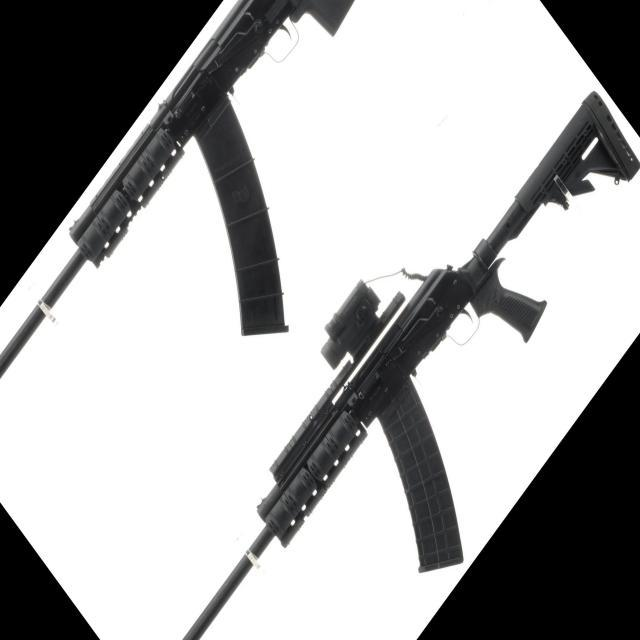weapon: (181, 88, 640, 640), (0, 0, 353, 379)
